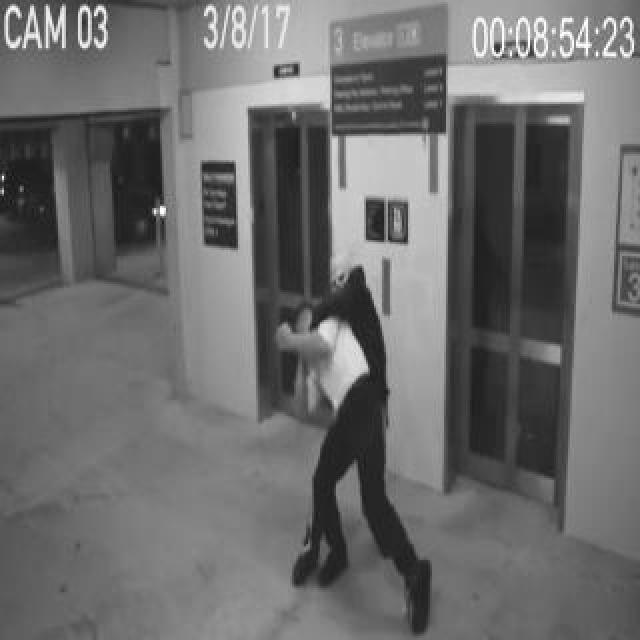fight: (272, 250, 454, 640)
